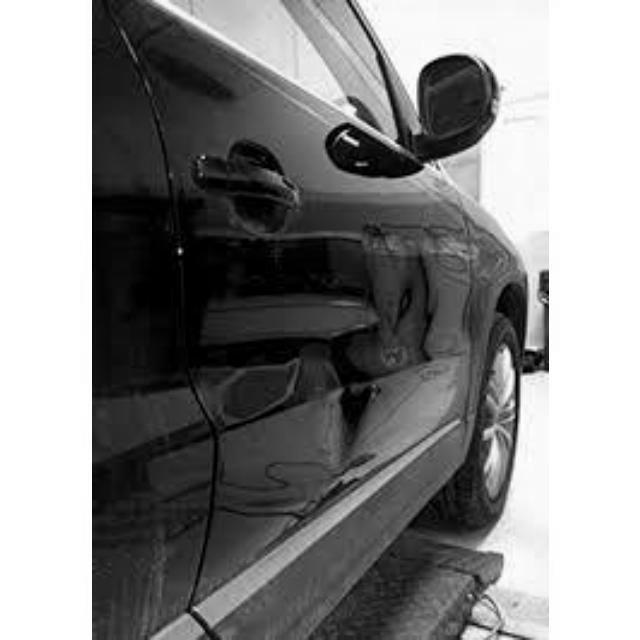doorouter-dent: (190, 80, 476, 575)
